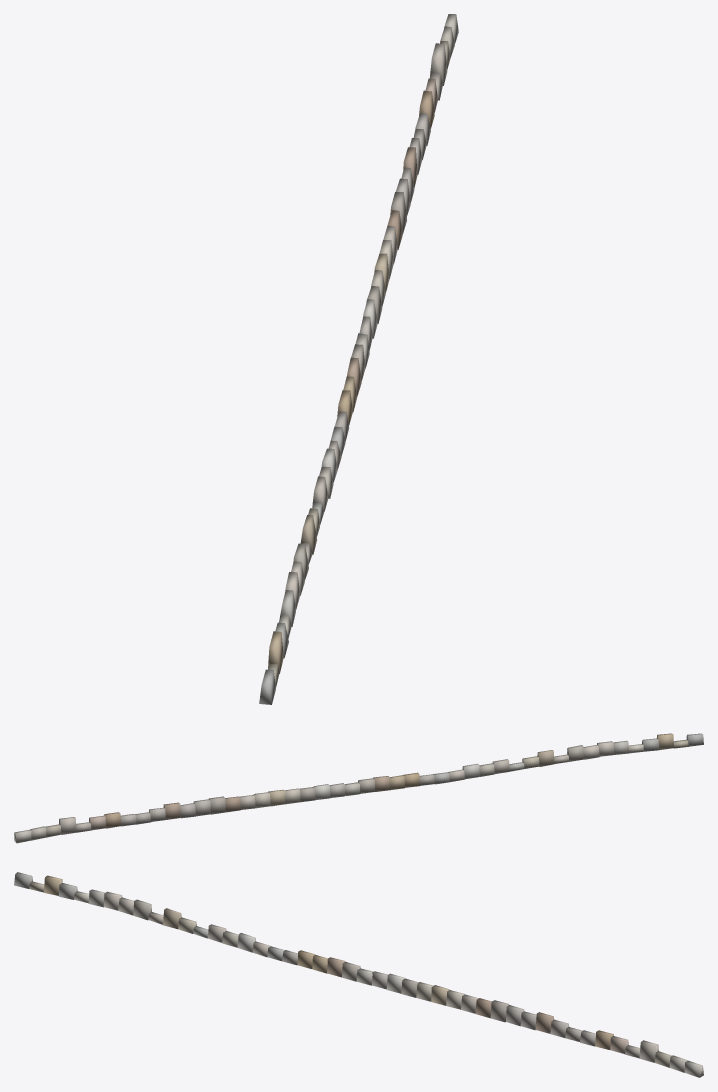
File: farm_-2_13_far.glb
3 renders of one model, top to bottom at view 1: azimuth 30°, elevation 25°; view 2: azimuth 150°, elevation 25°; view 3: azimuth 270°, elevation 25°, orthographic. The views are drawn at different scales.
Parts seen in each view (by area): view 1: geometry_0; view 2: geometry_0; view 3: geometry_0.
Boxes of the visible parts, x1,y1,x2,y2 form: geometry_0: [259, 14, 458, 704]; geometry_0: [14, 733, 703, 843]; geometry_0: [14, 872, 703, 1077].
Bounding box in the file's own units: 44.92 × 4.17 × 58.89.
